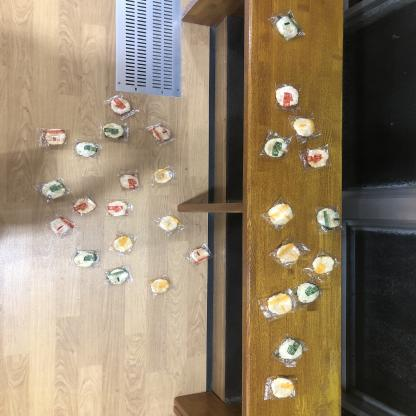green_setoshio: (271, 7, 306, 43), (270, 336, 310, 366), (313, 204, 350, 234), (258, 130, 292, 161), (37, 177, 71, 203), (297, 280, 328, 308), (71, 246, 103, 269), (103, 264, 134, 286), (101, 121, 130, 143), (74, 141, 103, 161)
red_setoshio: (103, 93, 141, 119), (303, 146, 335, 174), (116, 165, 146, 193), (37, 126, 71, 150), (274, 82, 301, 112), (149, 122, 176, 146), (186, 243, 214, 265), (49, 216, 78, 236), (105, 198, 134, 218), (72, 194, 98, 215)
yellow_setoshio: (259, 287, 297, 321), (268, 238, 306, 271), (262, 196, 298, 228), (288, 113, 324, 140), (152, 209, 184, 238), (264, 374, 299, 400), (310, 251, 341, 278), (144, 270, 176, 296), (148, 163, 178, 187), (110, 233, 139, 254)
